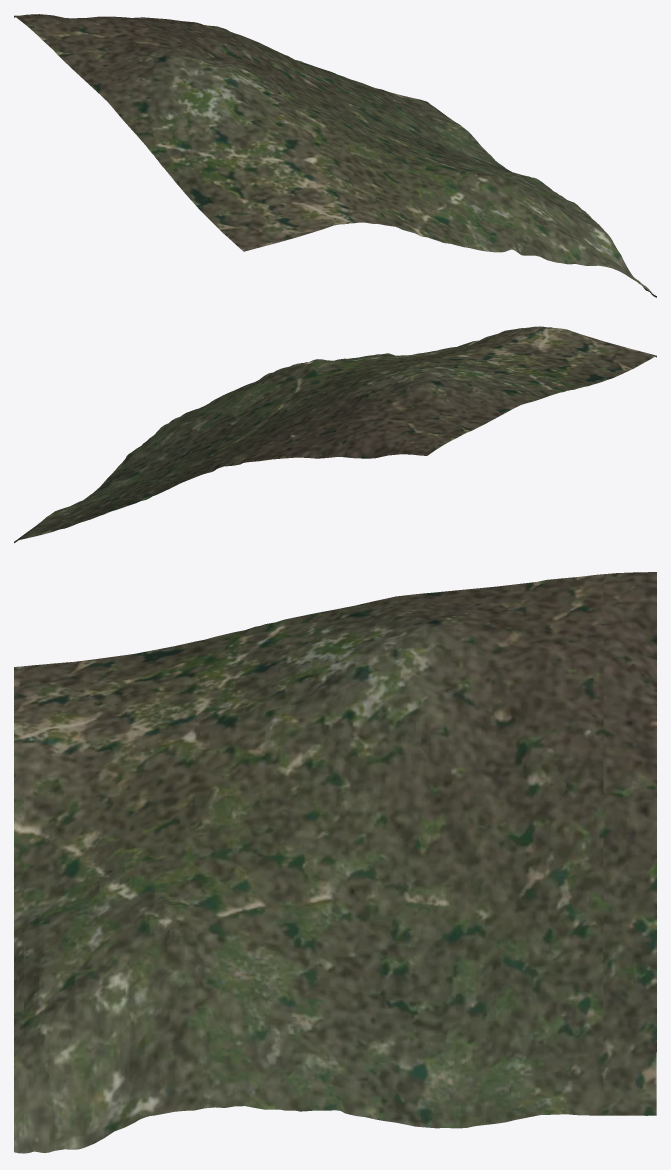
3 renders of one model, top to bottom at view 1: azimuth 30°, elevation 25°; view 2: azimuth 150°, elevation 25°; view 3: azimuth 270°, elevation 25°, orthographic. The views are drawn at different scales.
Bounding box in the file's own units: 250 × 125 × 241.
Materials: 1 (1 with a texture image).
